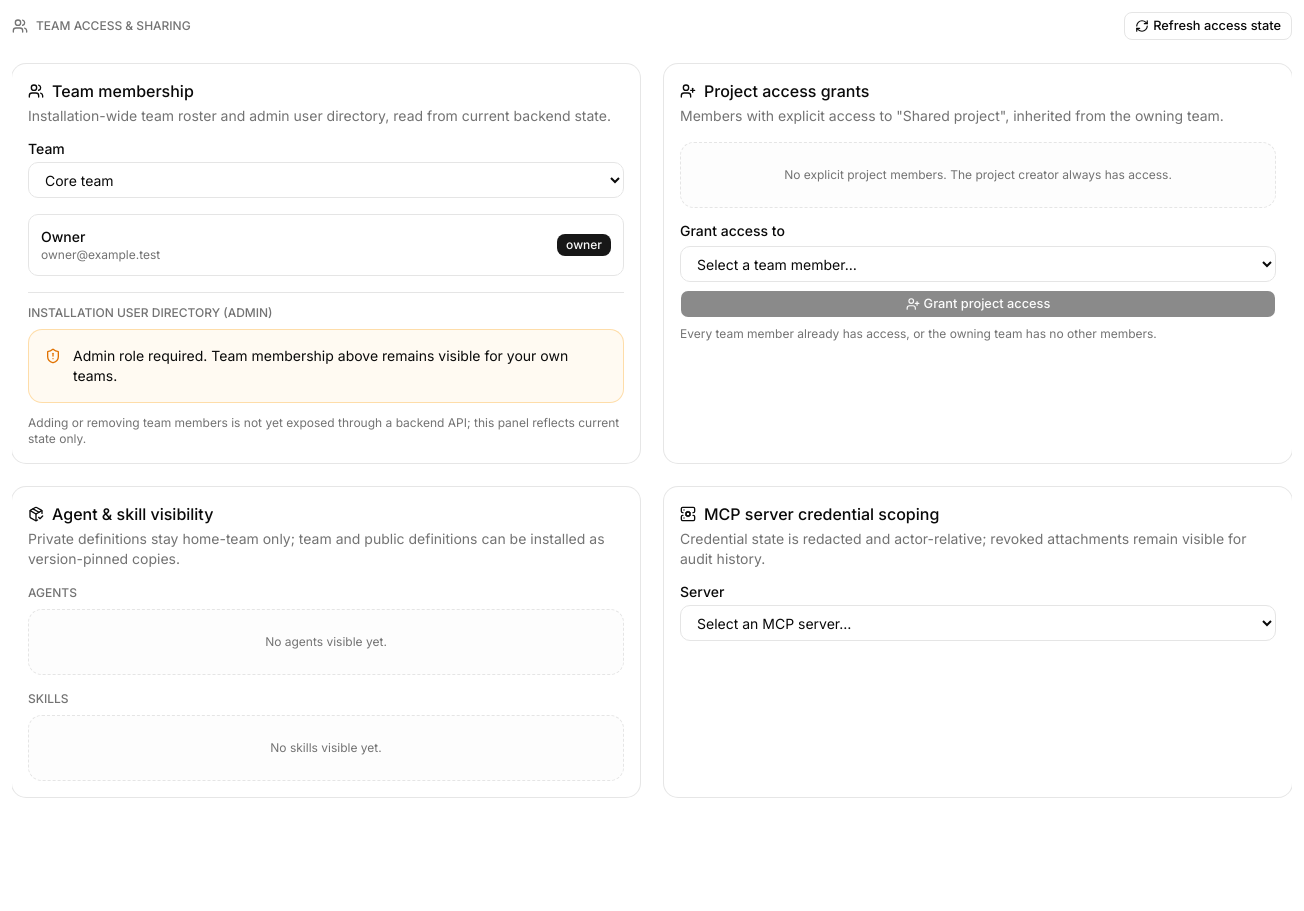
Scenario: AccessWorkspace › represents redacted MCP credential state and supports revoking an attachment
Select "Search MCP (team)" in the dropdown labelled "Server" at (978, 623), box [680,605,1276,641]
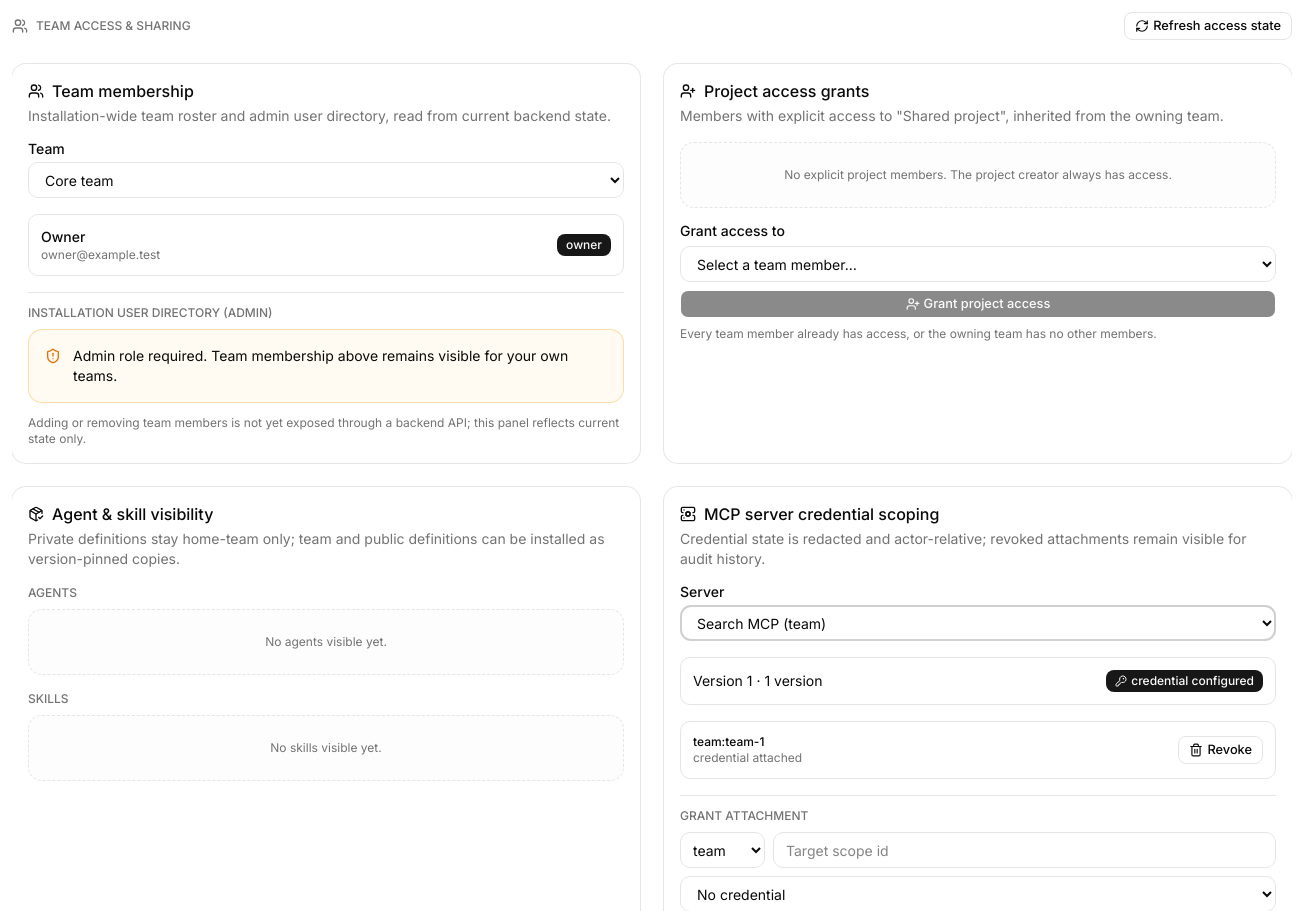
Check: the text "credential configured" is shown, box [1106,670,1263,692]
Click the button "Revoke" at (1221, 750), box [1178,736,1263,764]
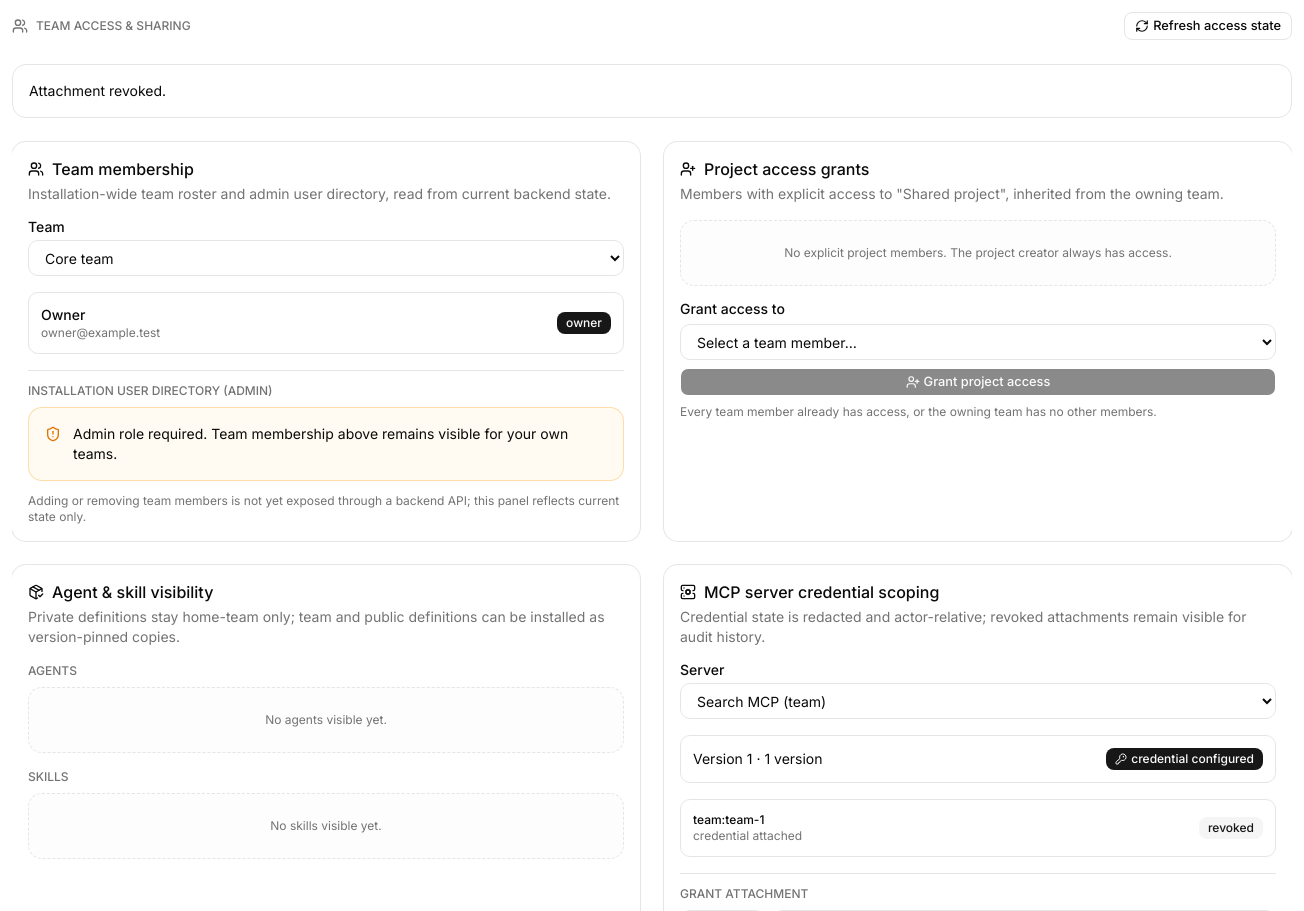
Check: the text "revoked" is shown, box [1199,817,1263,839]
